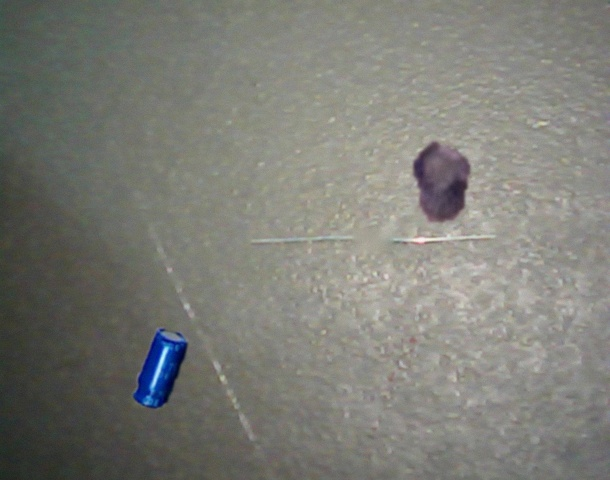capacitor: (413, 141, 471, 223), (133, 328, 188, 409)
